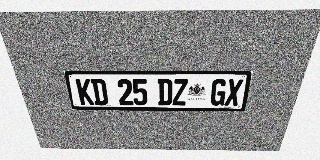2: (117, 79, 133, 105)
5: (132, 79, 148, 105)
D: (90, 79, 109, 105), (158, 79, 172, 105)
G: (210, 79, 228, 106)
K: (75, 79, 94, 105)
X: (224, 79, 244, 106)
Z: (172, 79, 188, 106)
